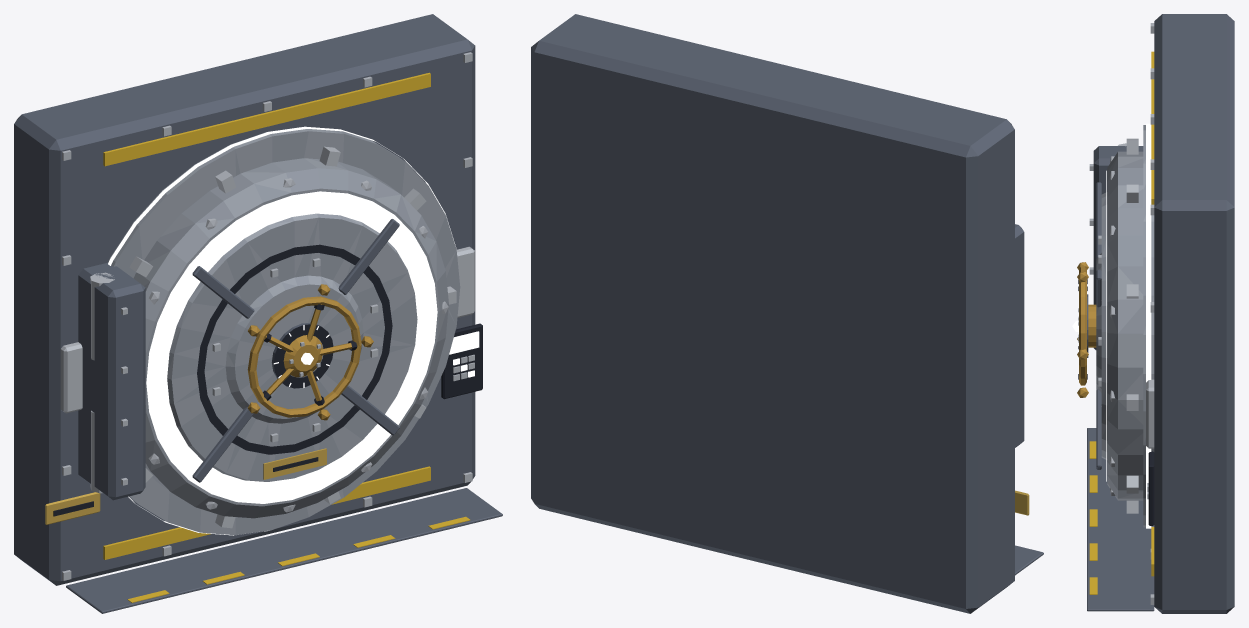
File: vault-door.glb
3 renders of one model, left to right at view 1: azimuth 30°, elevation 25°; view 2: azimuth 150°, elevation 25°; view 3: azimuth 270°, elevation 25°, orthographic. The views are drawn at different scales.
Parts seen in each view (by area): view 1: VaultFrame, Door, Wheel; view 2: VaultFrame, Door; view 3: VaultFrame, Door, Wheel.
Part boxes in pixels (box(x1,y1,x2,y2)): VaultFrame: box(14, 14, 502, 613); Door: box(78, 146, 456, 528); Wheel: box(247, 284, 373, 420); VaultFrame: box(531, 14, 1043, 613); Door: box(1015, 224, 1024, 447); VaultFrame: box(1087, 14, 1234, 613); Door: box(1089, 138, 1143, 513); Wheel: box(1072, 262, 1096, 397).
Bounding box in the file's own units: 3.48 × 3.4 × 1.21.
